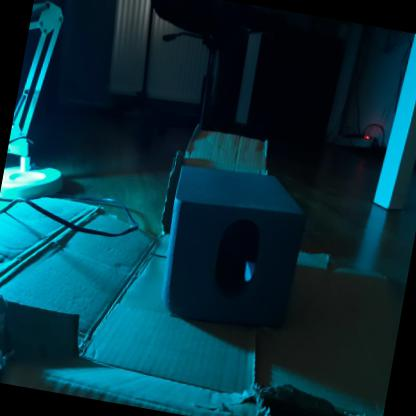CornerCasting: (152, 152, 310, 341)
